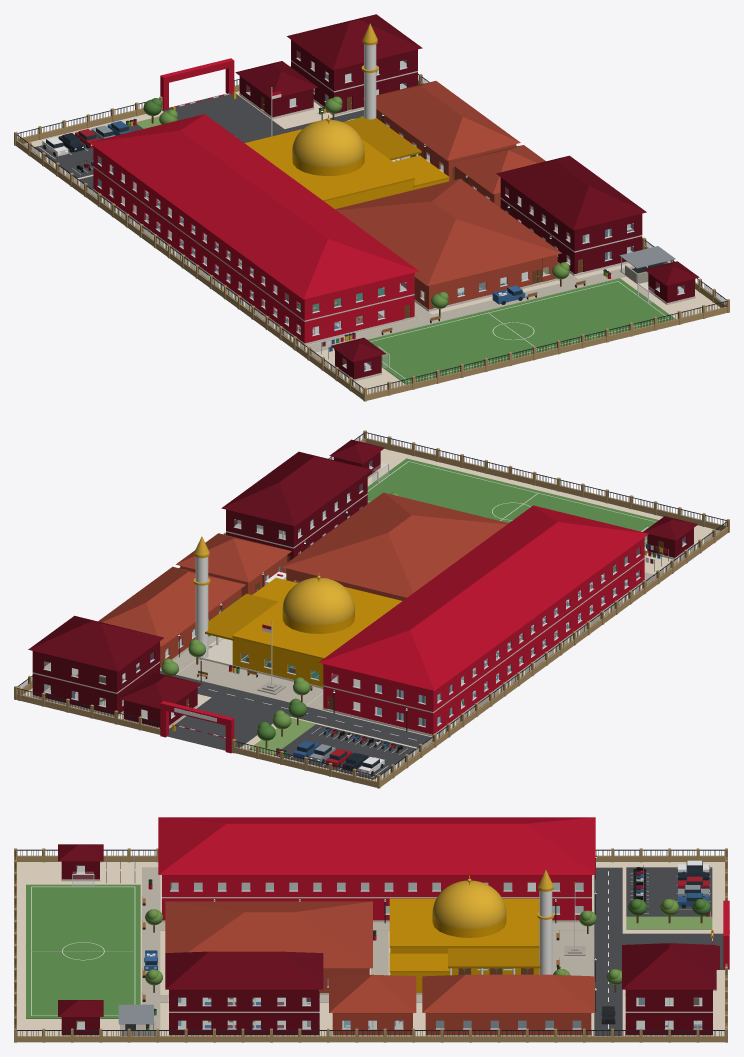
Rendered from pesantren-merah-putih.glb.
3 renders of one model, top to bottom at view 1: azimuth 30°, elevation 25°; view 2: azimuth 150°, elevation 25°; view 3: azimuth 270°, elevation 25°, orthographic.
Visible parts, largest first — view 1: Asrama Santri Atap, Lapangan Serbaguna, Dapur & Mat'am Atap, Pagar & Gerbang, Lahan & Jalan, Asrama Santri Lt1, Masjid / Mushola Atap, Asrama Santri Lt2, Ruang Serbaguna Atap, Mess Musyrif & Guru Atap, Kantor Administrasi Atap, Dapur & Mat'am Lt1 (+18 smaller); view 2: Asrama Santri Atap, Pagar & Gerbang, Lahan & Jalan, Dapur & Mat'am Atap, Lapangan Serbaguna, Asrama Santri Lt1, Masjid / Mushola Atap, Asrama Santri Lt2, Mess Musyrif & Guru Atap, Ruang Serbaguna Atap, Kantor Administrasi Atap, Parkir & RTH (+18 smaller); view 3: Asrama Santri Atap, Lahan & Jalan, Lapangan Serbaguna, Dapur & Mat'am Atap, Pagar & Gerbang, Asrama Santri Lt2, Masjid / Mushola Atap, Ruang Serbaguna Atap, Mess Musyrif & Guru Atap, Kantor Administrasi Atap, Ruang Serbaguna Lt1, Mess Musyrif & Guru Lt2 (+18 smaller).
Part boxes in pixels (bbox=[...]): Asrama Santri Atap: bbox=[89, 114, 418, 299]; Lapangan Serbaguna: bbox=[367, 278, 674, 384]; Dapur & Mat'am Atap: bbox=[335, 178, 561, 285]; Pagar & Gerbang: bbox=[14, 58, 729, 401]; Lahan & Jalan: bbox=[24, 91, 720, 394]; Asrama Santri Lt1: bbox=[93, 167, 415, 345]; Masjid / Mushola Atap: bbox=[245, 115, 414, 201]; Asrama Santri Lt2: bbox=[93, 146, 414, 321]; Ruang Serbaguna Atap: bbox=[363, 81, 520, 160]; Mess Musyrif & Guru Atap: bbox=[496, 155, 646, 230]; Kantor Administrasi Atap: bbox=[286, 14, 422, 69]; Dapur & Mat'am Lt1: bbox=[414, 254, 557, 311]; Asrama Santri Atap: bbox=[319, 505, 648, 690]; Pagar & Gerbang: bbox=[14, 430, 729, 788]; Lahan & Jalan: bbox=[23, 449, 719, 781]; Dapur & Mat'am Atap: bbox=[281, 492, 508, 597]; Lapangan Serbaguna: bbox=[367, 458, 658, 547]; Asrama Santri Lt1: bbox=[322, 559, 644, 736]; Masjid / Mushola Atap: bbox=[232, 573, 402, 659]; Asrama Santri Lt2: bbox=[323, 537, 644, 713]; Mess Musyrif & Guru Atap: bbox=[221, 451, 371, 526]; Ruang Serbaguna Atap: bbox=[98, 566, 245, 646]; Kantor Administrasi Atap: bbox=[28, 615, 163, 671]; Parkir & RTH: bbox=[249, 718, 415, 779]; Asrama Santri Atap: bbox=[158, 817, 595, 875]; Lahan & Jalan: bbox=[17, 862, 724, 1035]; Lapangan Serbaguna: bbox=[26, 872, 140, 1018]; Dapur & Mat'am Atap: bbox=[165, 901, 372, 968]; Pagar & Gerbang: bbox=[14, 848, 729, 1042]; Asrama Santri Lt2: bbox=[161, 875, 592, 898]; Masjid / Mushola Atap: bbox=[389, 875, 539, 947]; Ruang Serbaguna Atap: bbox=[422, 974, 594, 1013]; Mess Musyrif & Guru Atap: bbox=[165, 951, 323, 989]; Kantor Administrasi Atap: bbox=[622, 943, 716, 989]; Ruang Serbaguna Lt1: bbox=[425, 1013, 591, 1035]; Mess Musyrif & Guru Lt2: bbox=[168, 990, 319, 1012].
Size of the model in its own units: 60.4 by 19.35 by 101.
